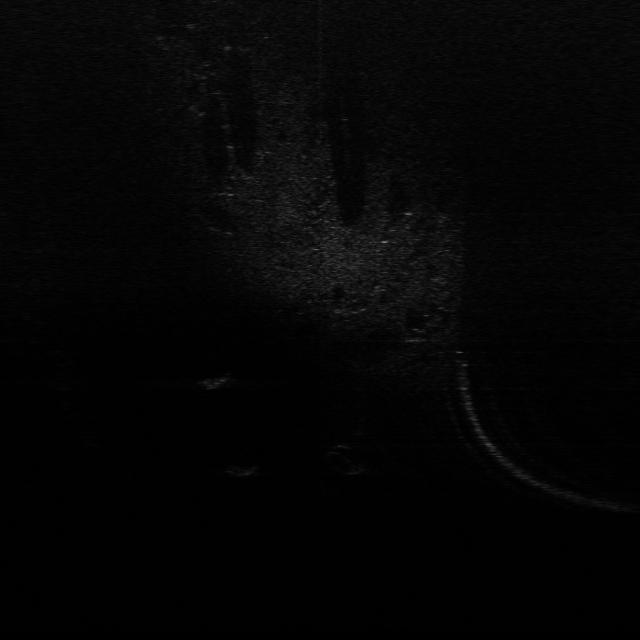cube: (220, 464, 260, 481)
square cage: (196, 372, 233, 392)
tyre: (324, 443, 370, 476)
